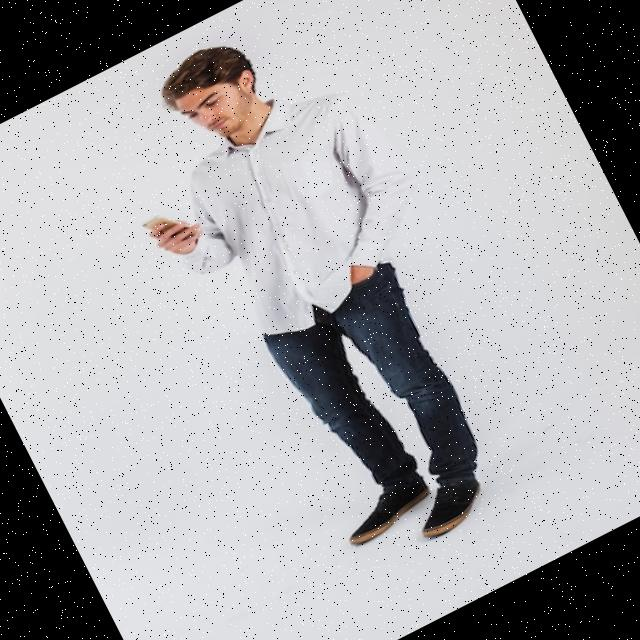Person: (80, 0, 563, 594)
